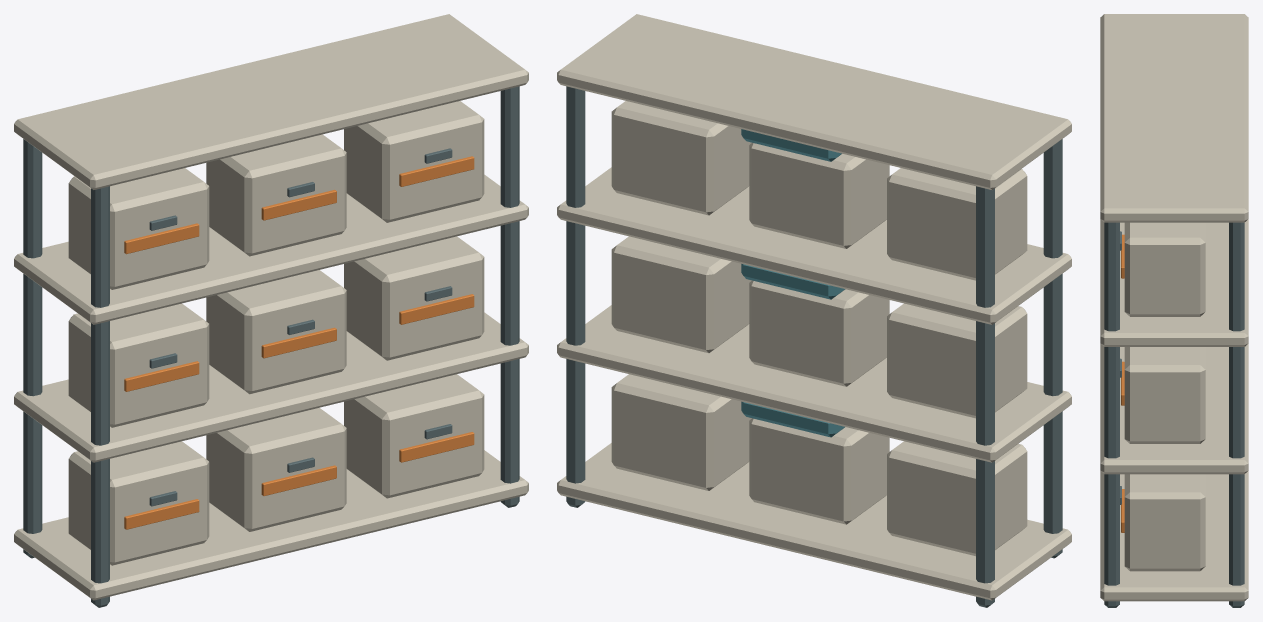
File: shelf.glb
The picture shows the model from 3 angles, left to right: view 1: azimuth 30°, elevation 25°; view 2: azimuth 150°, elevation 25°; view 3: azimuth 270°, elevation 25°; orthographic projection. The views are drawn at different scales.
Parts seen in each view (by area): view 1: shelf; view 2: shelf; view 3: shelf.
Boxes of the visible parts, x1,y1,x2,y2 form: shelf: (14,14,528,607); shelf: (557,14,1071,607); shelf: (1100,14,1248,607).
Size of the model in its own units: 3 by 2.85 by 0.95.
